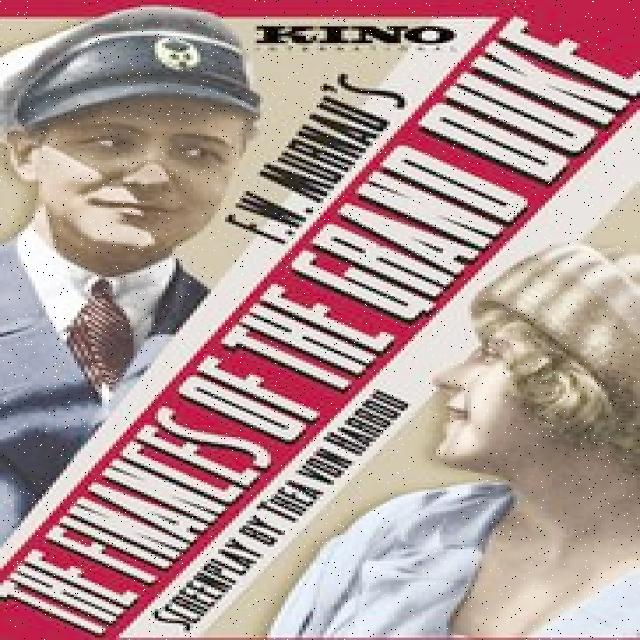movie-judul: (0, 19, 629, 630)
picture: (2, 4, 640, 637)
